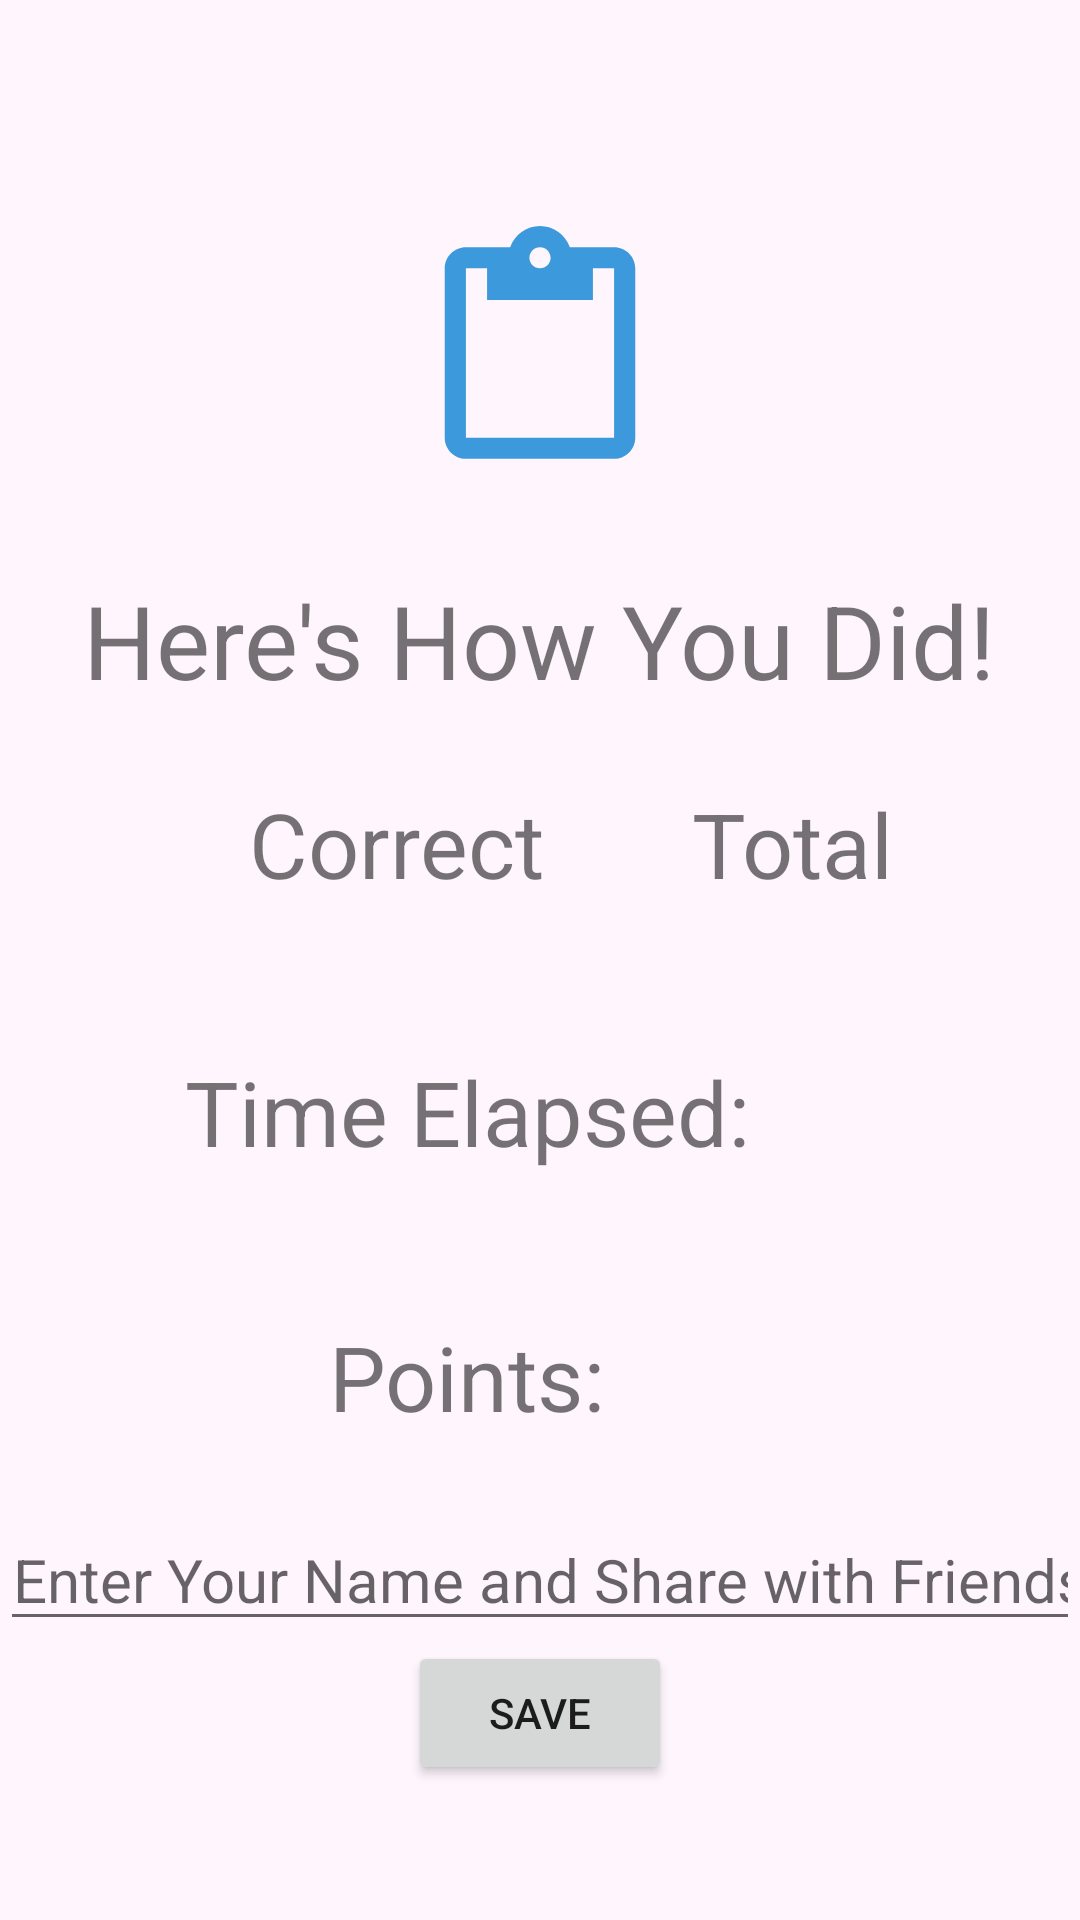

Screen size 1080*1920. Icon name, then its box in pixels as (x1, y1, x2, y2):
clipboard: (444, 226, 636, 459)
